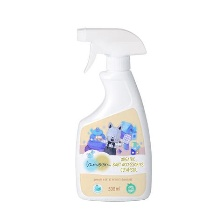cleaning_solution: (73, 24, 155, 205)
